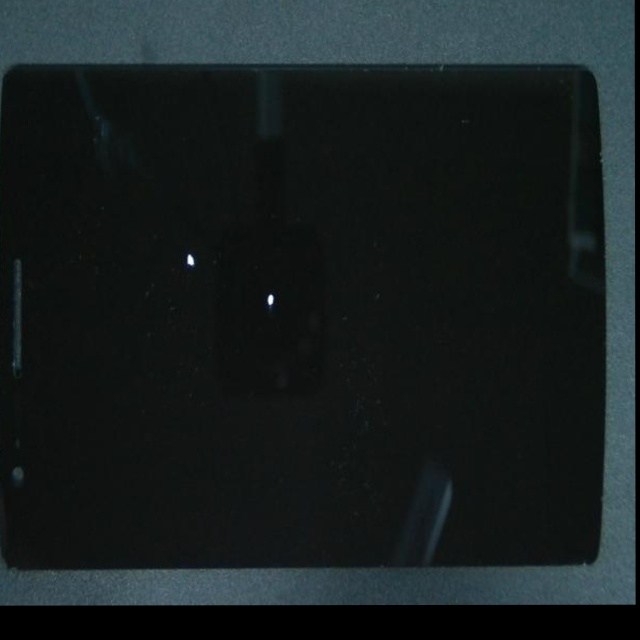stain: (97, 118, 414, 509), (53, 98, 290, 436)
